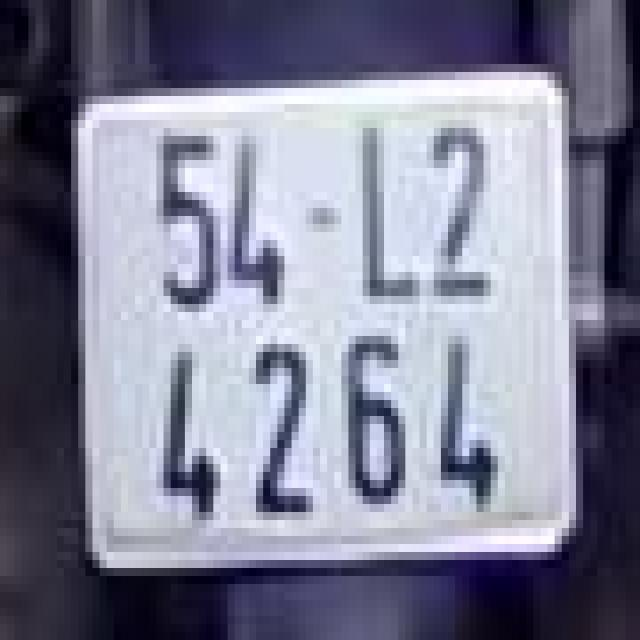2: (423, 104, 501, 312), (246, 336, 316, 536)
4: (228, 128, 298, 320), (431, 328, 502, 512), (157, 332, 220, 524)
5: (160, 132, 224, 308)
6: (345, 320, 423, 528)
L: (348, 108, 426, 316)
